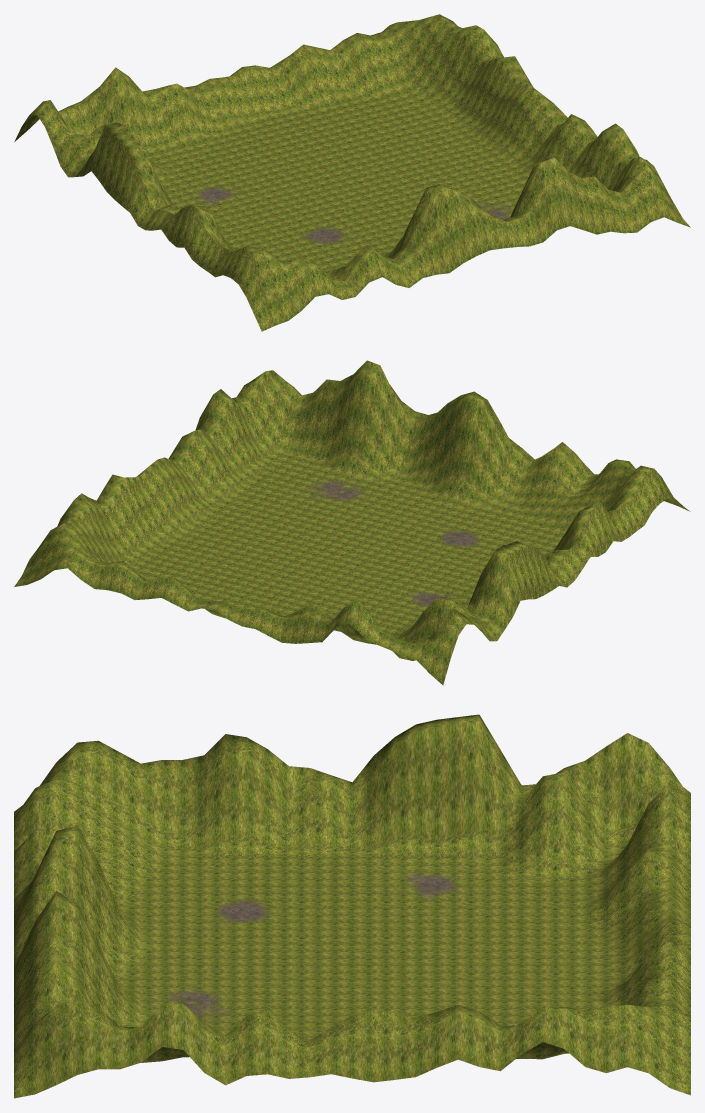
3 renders of one model, top to bottom at view 1: azimuth 30°, elevation 25°; view 2: azimuth 150°, elevation 25°; view 3: azimuth 270°, elevation 25°, orthographic. The views are drawn at different scales.
Parts seen in each view (by area): view 1: Mesh; view 2: Mesh; view 3: Mesh.
Part boxes in pixels (x1=…): Mesh: x1=14, y1=14, x2=690, y2=331; Mesh: x1=14, y1=360, x2=690, y2=685; Mesh: x1=14, y1=714, x2=690, y2=1098.
Bounding box in the file's own units: 80 × 15.89 × 80.
1 material, 1 textured.
